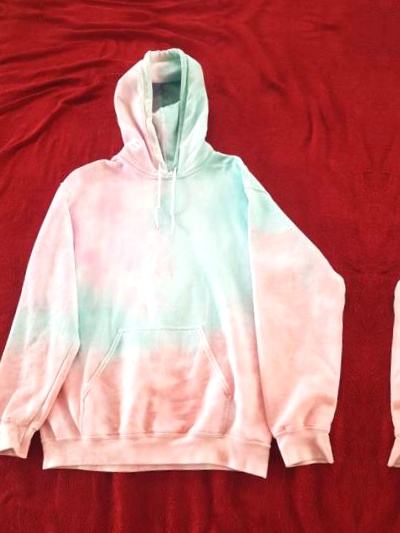Hoodie: (0, 44, 357, 495), (385, 65, 400, 516)
